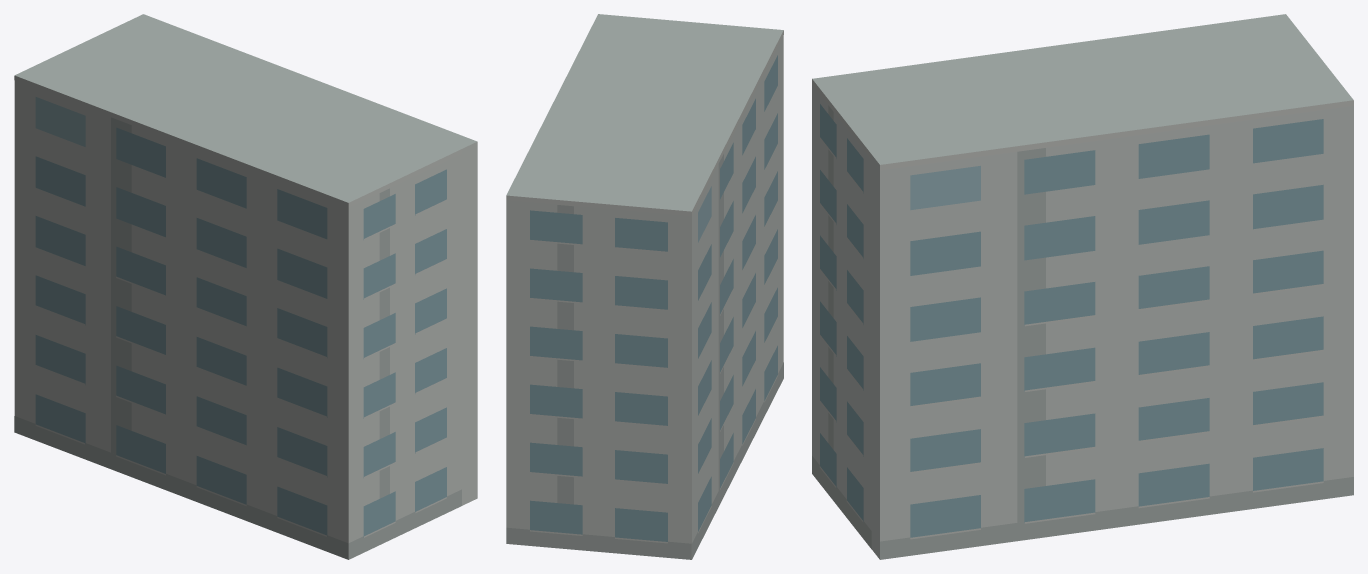
Rendered from survey-upis-32569795.glb.
3 views of the same model, side by side, from view 1: azimuth 30°, elevation 25°; view 2: azimuth 150°, elevation 25°; view 3: azimuth 270°, elevation 25° (orthographic). The views are drawn at different scales.
Visible parts, largest first — view 1: survey-upis-32569795.tmp; view 2: survey-upis-32569795.tmp; view 3: survey-upis-32569795.tmp.
Boxes of the visible parts, left/top/right/bottom form: survey-upis-32569795.tmp: left=14, top=14, right=477, bottom=559; survey-upis-32569795.tmp: left=506, top=14, right=783, bottom=559; survey-upis-32569795.tmp: left=812, top=14, right=1353, bottom=559.
Size of the model in its own units: 14.1 by 17.2 by 21.39.
